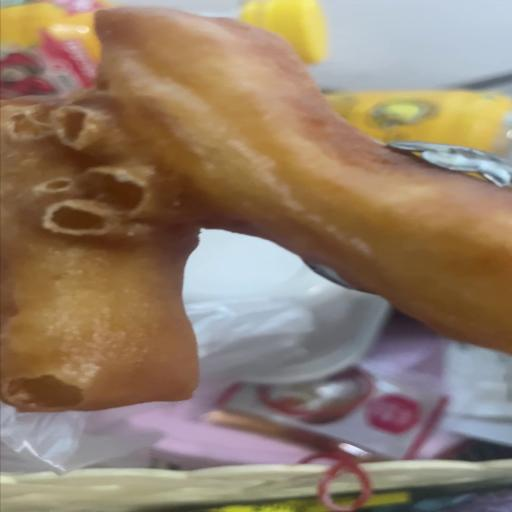street_burnt_defect: (0, 1, 511, 405)
